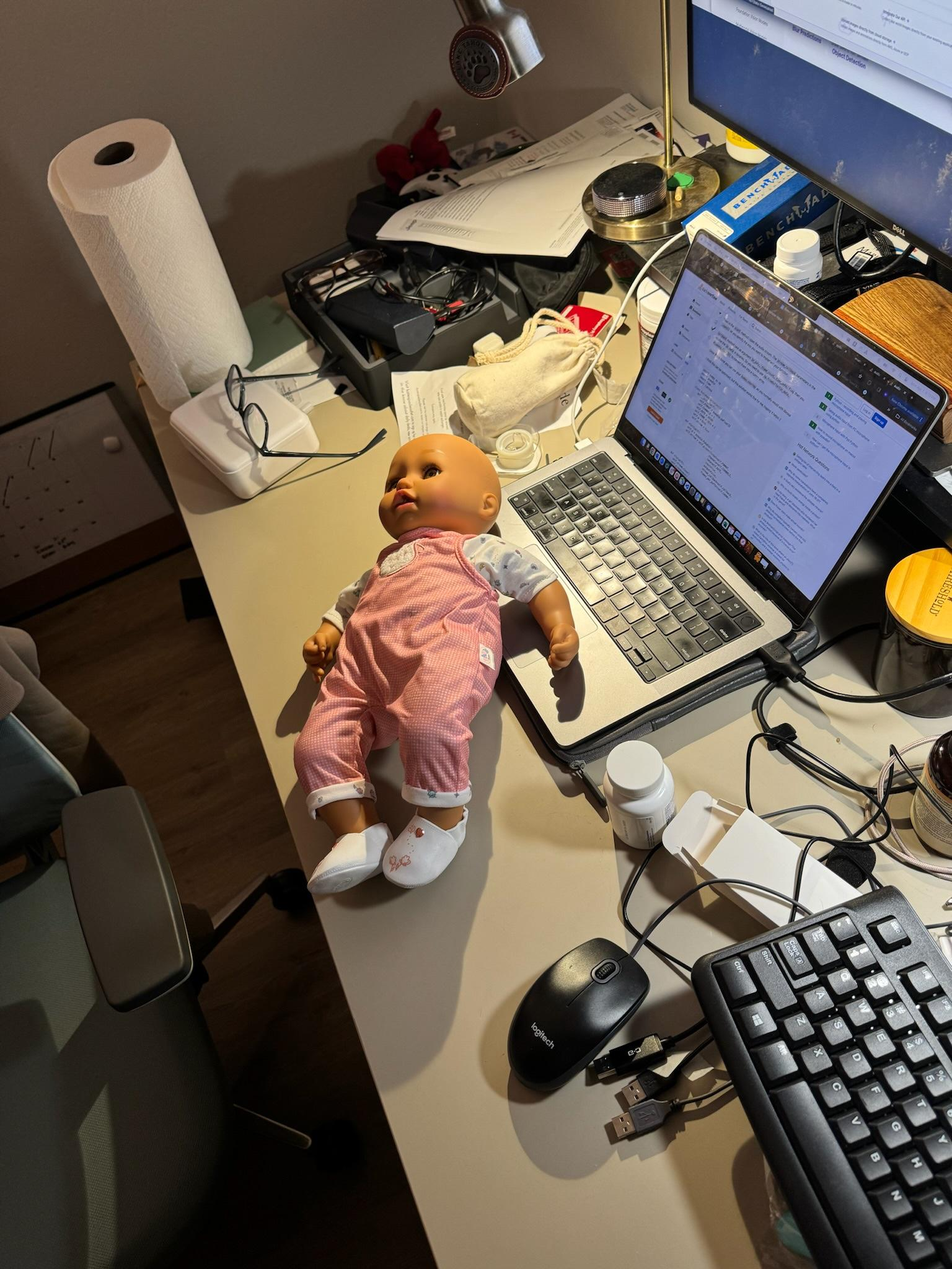baby: (277, 430, 566, 907)
